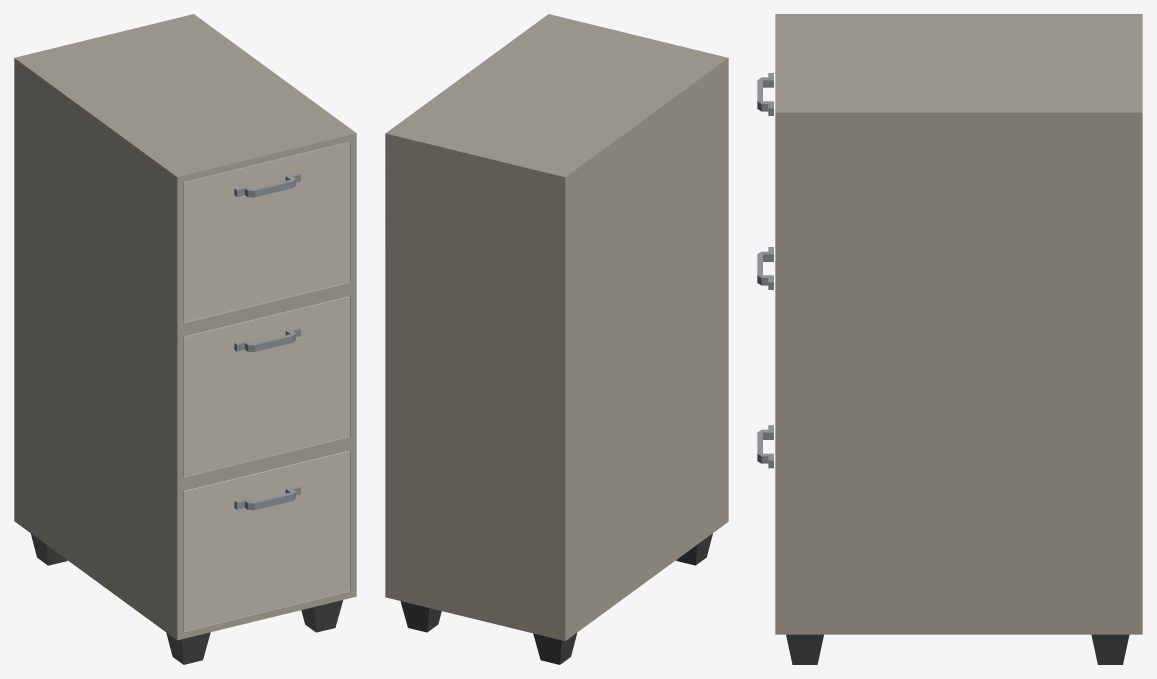
Rendered from Small_Locker_Bege.fbx.
3 renders of one model, left to right at view 1: azimuth 30°, elevation 25°; view 2: azimuth 150°, elevation 25°; view 3: azimuth 270°, elevation 25°, orthographic. The views are drawn at different scales.
Visible parts, largest first — view 1: Gabinet; view 2: Gabinet; view 3: Gabinet.
Part boxes in pixels (x1,y1,x2,y2): Gabinet: (14,14,356,664); Gabinet: (385,14,728,664); Gabinet: (757,14,1142,664).
Bounding box in the file's own units: 28 × 74 × 46.17.
